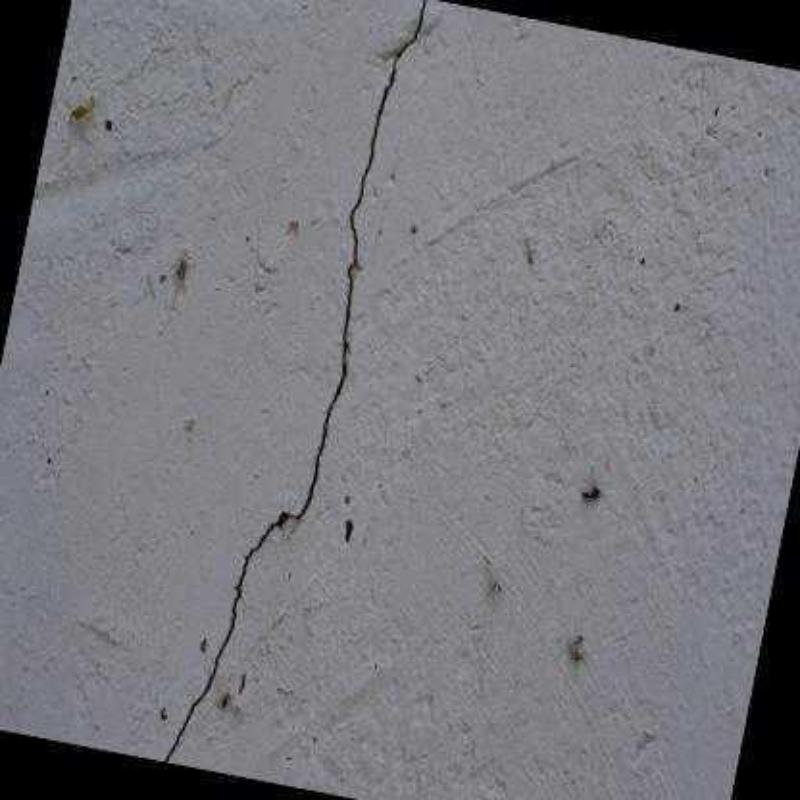pothole: (161, 0, 426, 762)
